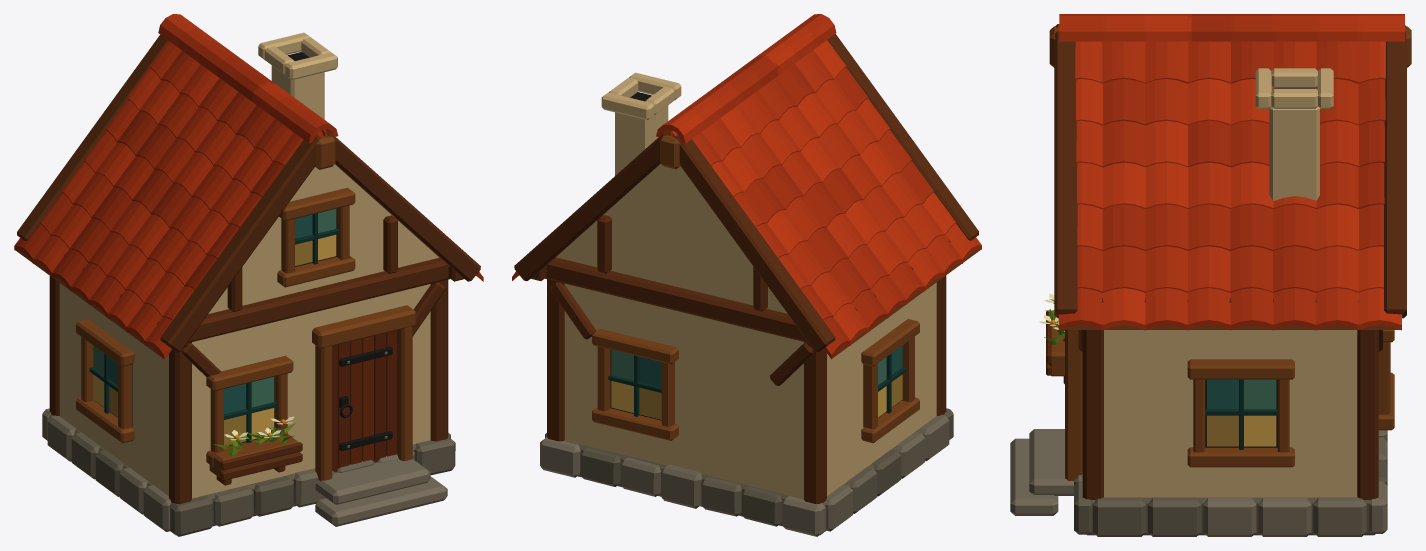
File: cottage-house.obj
3 renders of one model, left to right at view 1: azimuth 30°, elevation 25°; view 2: azimuth 150°, elevation 25°; view 3: azimuth 270°, elevation 25°, orthographic. The views are drawn at different scales.
Visible parts, largest first — view 1: Plaster_ground_floor_export, Plaster_attic_export, Heavy_gable_bargeboard_export, Gable_sill_timber_export, Heavy_gable_bargeboard.001_export, Corner_timber_export, Front_stone_step_export, Heavy_gable_bargeboard.002_export, Front_stone_step.001_export, Corner_timber.002_export, Door_thick_jamb_export, Door_lintel_export (+99 smaller); view 2: Plaster_ground_floor_export, Plaster_attic_export, Heavy_gable_bargeboard.002_export, Gable_sill_timber.001_export, Heavy_gable_bargeboard.003_export, Corner_timber.001_export, Heavy_gable_bargeboard_export, Corner_timber.003_export, Chimney_plaster_shaft_export, Back_window_horizontal_timber.001_export, Foundation_front_back_block.010_export, Corner_timber_export (+87 smaller); view 3: Plaster_ground_floor_export, Heavy_gable_bargeboard.001_export, Heavy_gable_bargeboard.003_export, Chimney_plaster_shaft_export, Corner_timber.002_export, Corner_timber.003_export, Door_thick_jamb.001_export, Front_stone_step_export, East_window_horizontal_timber.001_export, Front_stone_step.001_export, East_window_horizontal_timber_export, Foundation_side_block.007_export (+83 smaller).
Boxes of the visible parts, x1,y1,x2,y2 form: Plaster_ground_floor_export: [59, 283, 430, 498]; Plaster_attic_export: [208, 164, 438, 313]; Heavy_gable_bargeboard_export: [160, 134, 320, 352]; Gable_sill_timber_export: [189, 257, 449, 342]; Heavy_gable_bargeboard.001_export: [324, 129, 480, 281]; Corner_timber_export: [169, 342, 191, 504]; Front_stone_step_export: [315, 459, 430, 504]; Heavy_gable_bargeboard.002_export: [17, 34, 168, 241]; Front_stone_step.001_export: [315, 476, 447, 526]; Corner_timber.002_export: [430, 279, 448, 441]; Door_thick_jamb_export: [315, 345, 332, 481]; Door_lintel_export: [312, 305, 416, 348]; Plaster_ground_floor_export: [564, 282, 936, 498]; Plaster_attic_export: [556, 164, 787, 313]; Heavy_gable_bargeboard.002_export: [674, 135, 835, 352]; Gable_sill_timber.001_export: [545, 256, 806, 342]; Heavy_gable_bargeboard.003_export: [514, 129, 670, 280]; Corner_timber.001_export: [804, 342, 826, 503]; Heavy_gable_bargeboard_export: [827, 34, 978, 240]; Corner_timber.003_export: [547, 279, 564, 441]; Chimney_plaster_shaft_export: [615, 105, 668, 175]; Back_window_horizontal_timber.001_export: [592, 328, 678, 364]; Foundation_front_back_block.010_export: [660, 464, 701, 508]; Corner_timber_export: [936, 275, 946, 415]; Plaster_ground_floor_export: [1104, 330, 1357, 497]; Heavy_gable_bargeboard.001_export: [1054, 31, 1077, 318]; Heavy_gable_bargeboard.003_export: [1384, 32, 1406, 318]; Chimney_plaster_shaft_export: [1269, 89, 1319, 200]; Corner_timber.002_export: [1082, 330, 1103, 499]; Corner_timber.003_export: [1357, 330, 1378, 499]; Door_thick_jamb.001_export: [1065, 330, 1082, 480]; Front_stone_step_export: [1029, 429, 1073, 495]; East_window_horizontal_timber.001_export: [1187, 359, 1294, 379]; Front_stone_step.001_export: [1010, 438, 1058, 515]; East_window_horizontal_timber_export: [1187, 447, 1294, 467]; Foundation_side_block.007_export: [1203, 497, 1256, 536].
Bounding box in the file's own units: 4.76 × 5.51 × 4.52.
